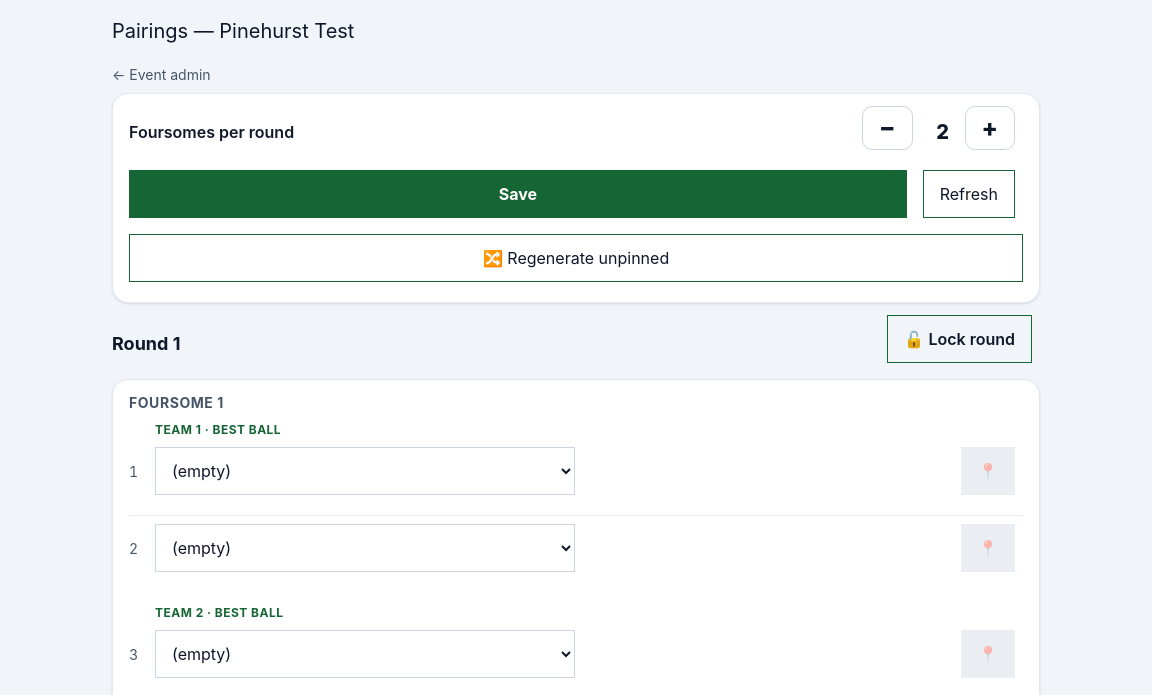
Test case: PairingsPage › reducing to ONE group keeps filled players and leaves Save enabled (Josh 2026-06-25)
Fill foursome 1 of round 1 with a player, then verify Save is enabled.
Select "Alice" in the dropdown with test id "select-0-0-0": (365, 471) [155,447,575,495]
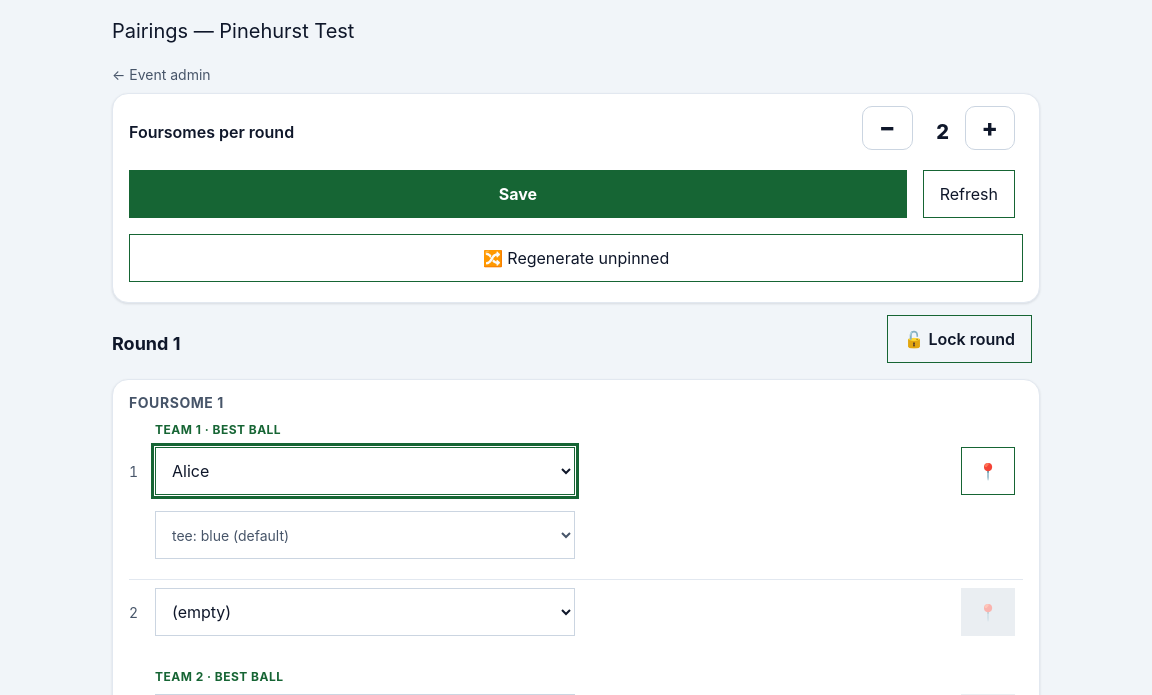
Expected: the button with test id "save-button" is enabled, [129,170,907,218]
Click the button with test id "foursomes-minus": (887, 128) [862,106,913,150]
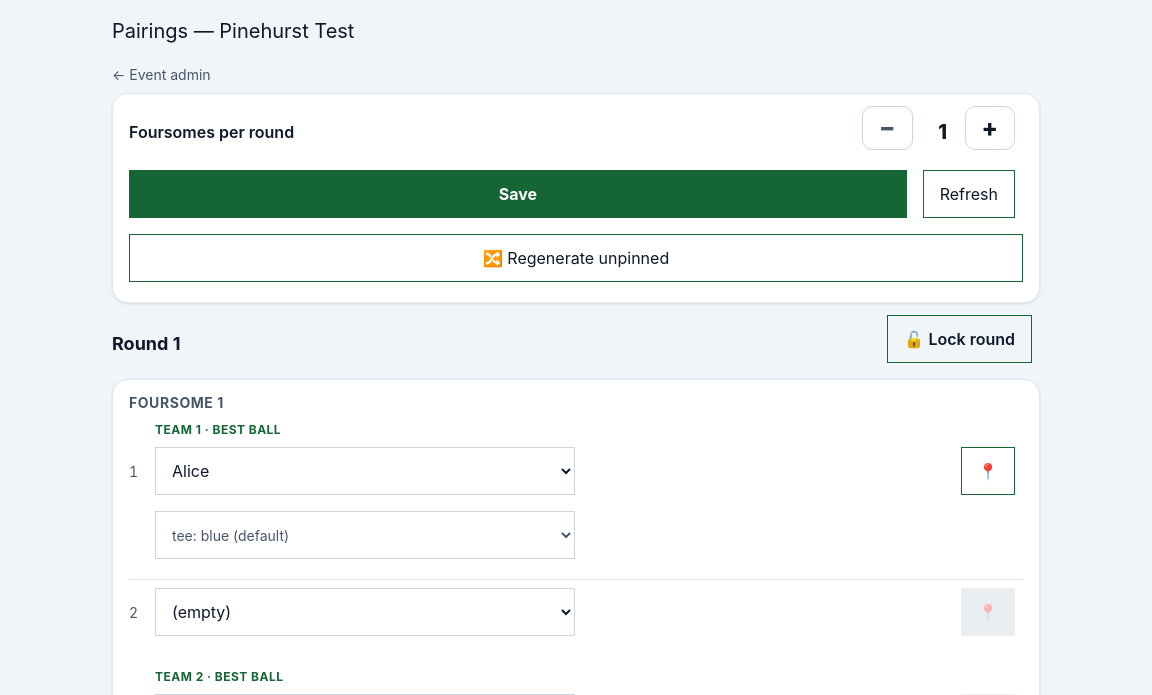
Expected: the button with test id "save-button" is enabled, [129,170,907,218]
Now the text with test id "foursomes-per-round" reads "1", box [938,120,947,144]
